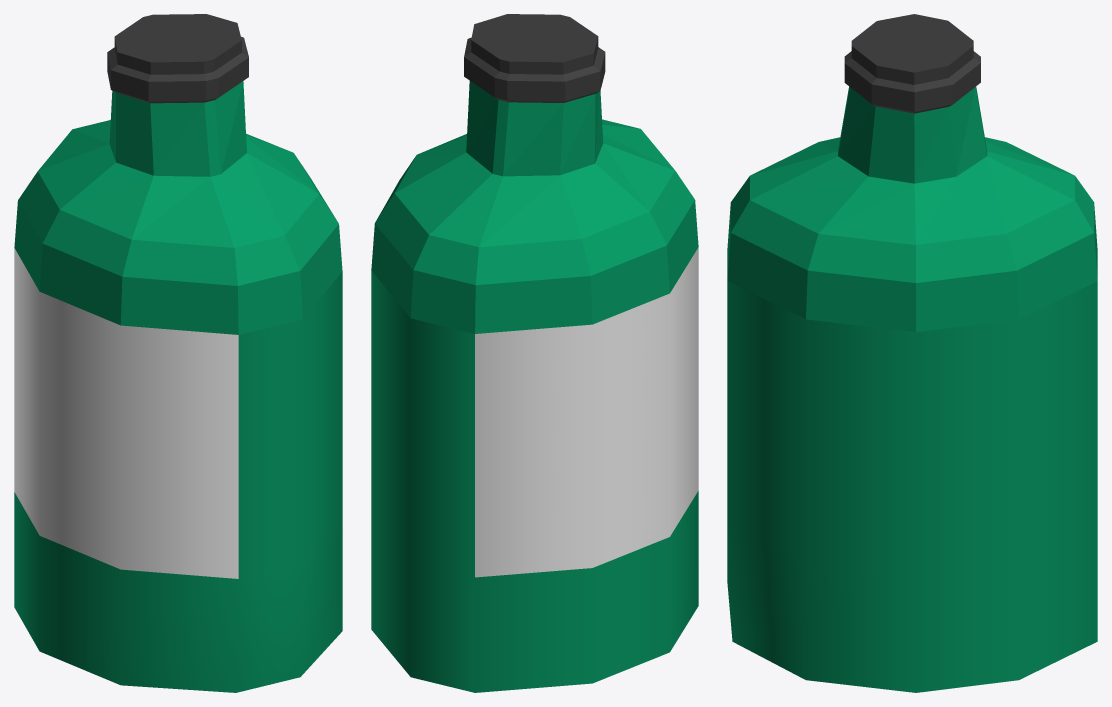
The model's file is Botella1.fbx.
3 views of the same model, side by side, from view 1: azimuth 30°, elevation 25°; view 2: azimuth 150°, elevation 25°; view 3: azimuth 270°, elevation 25° (orthographic).
Visible parts, largest first — view 1: Botella01_LOD00; view 2: Botella01_LOD00; view 3: Botella01_LOD00.
Boxes of the visible parts, x1,y1,x2,y2 form: Botella01_LOD00: (14, 14, 342, 692); Botella01_LOD00: (371, 14, 698, 692); Botella01_LOD00: (727, 14, 1097, 692).
Size of what is drawn, in the model's own units: 12.38 by 25.07 by 14.44.
